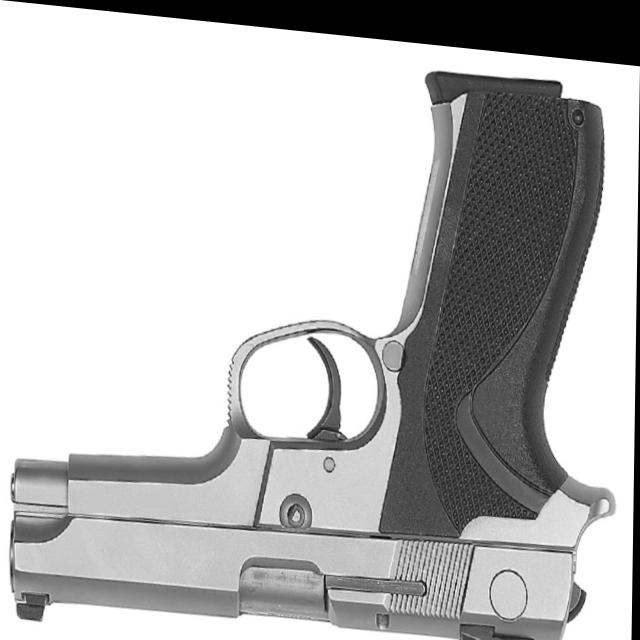handgun: (8, 20, 621, 640)
